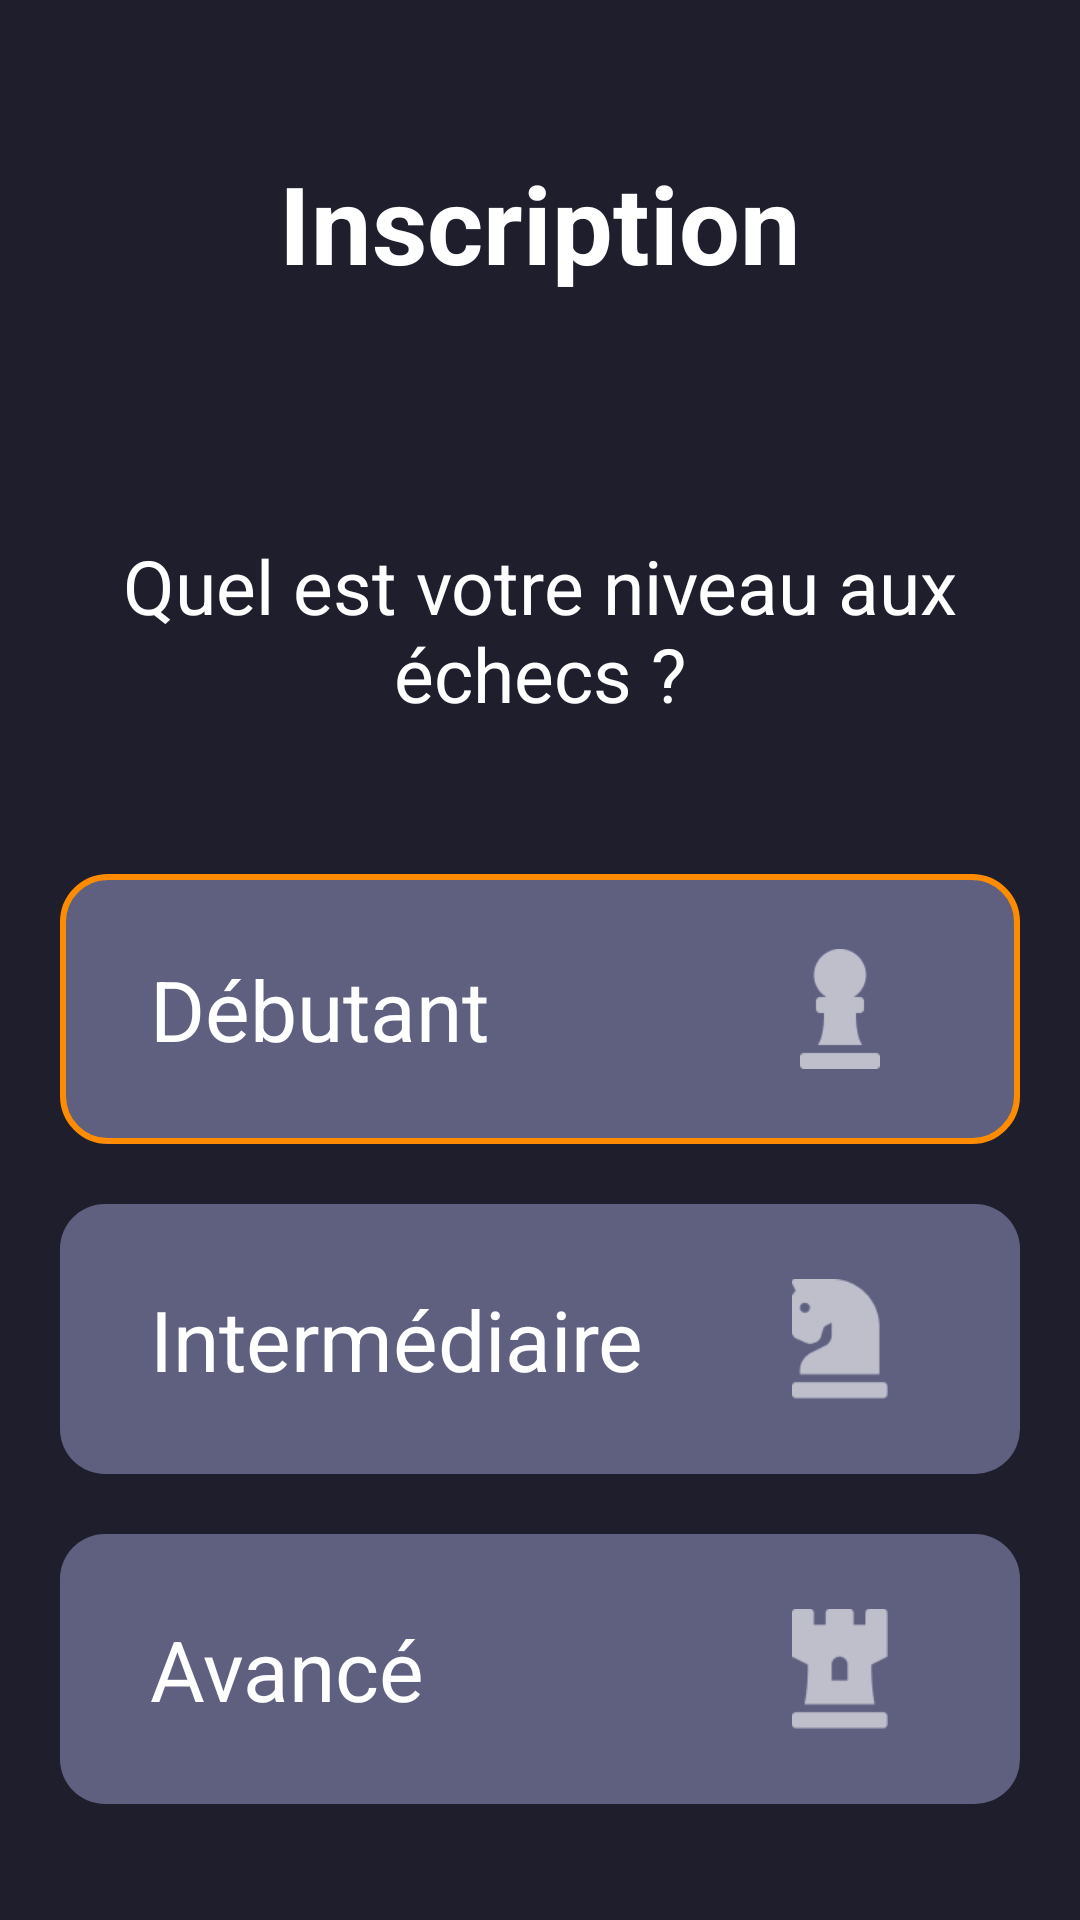

Where icons sit on this 1080 x 1920 app screen, as [x1, y1, x2, y2]:
Cavalier d'échecs: [792, 1279, 888, 1399]
Pion d'échecs: [800, 949, 880, 1069]
Tour d'échecs: [792, 1609, 888, 1729]
